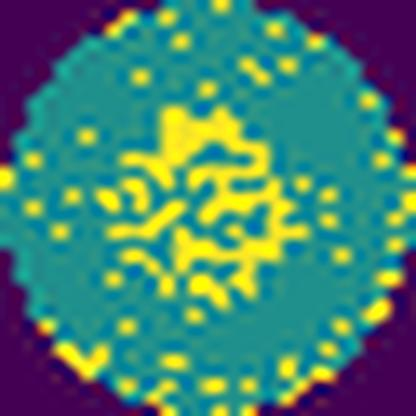Center: (89, 104, 315, 311)
